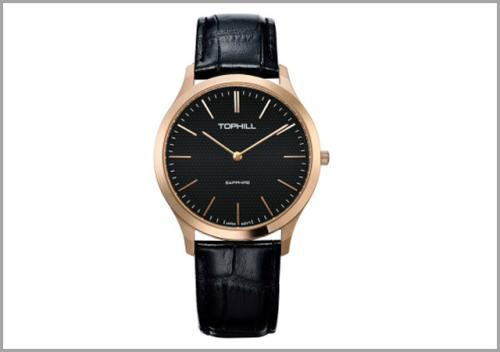watch: (154, 12, 333, 343)
